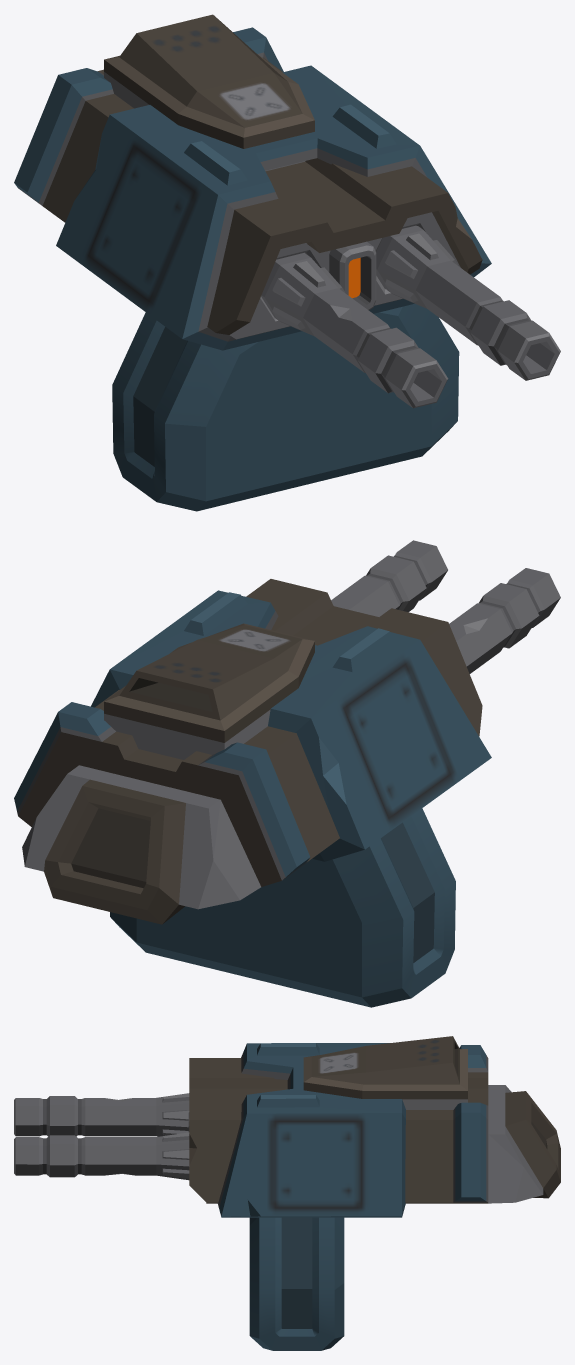
Rendered from SM_Mech_Arm_01_Weapon_Forearm_05.fbx.
3 renders of one model, top to bottom at view 1: azimuth 30°, elevation 25°; view 2: azimuth 150°, elevation 25°; view 3: azimuth 270°, elevation 25°, orthographic. The views are drawn at different scales.
Visible parts, largest first — view 1: SM_Mech_Arm_01_Weapon_Forearm_05; view 2: SM_Mech_Arm_01_Weapon_Forearm_05; view 3: SM_Mech_Arm_01_Weapon_Forearm_05.
Part boxes in pixels (x1,y1,x2,y2): SM_Mech_Arm_01_Weapon_Forearm_05: (14, 14, 560, 511); SM_Mech_Arm_01_Weapon_Forearm_05: (14, 540, 560, 1007); SM_Mech_Arm_01_Weapon_Forearm_05: (14, 1036, 560, 1350).
Size of the model in its own units: 54.98 by 61.6 by 118.
